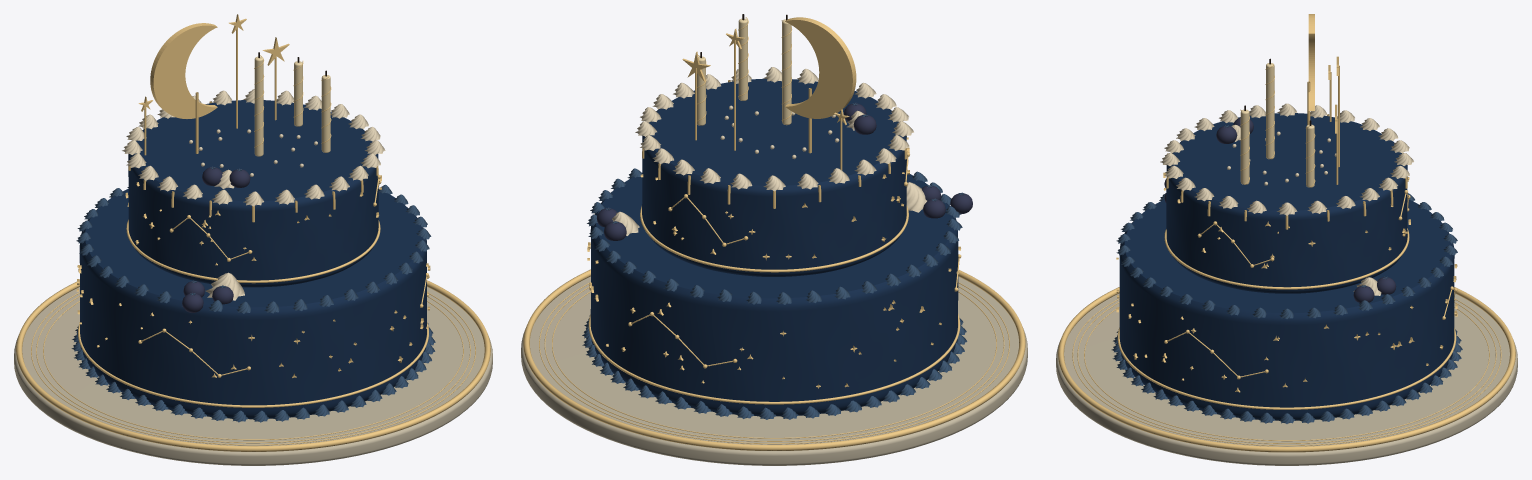
Rendered from star-cake.glb.
3 renders of one model, left to right at view 1: azimuth 30°, elevation 25°; view 2: azimuth 150°, elevation 25°; view 3: azimuth 270°, elevation 25°, orthographic. The views are drawn at different scales.
Parts seen in each view (by area): view 1: Lower_tier, Porcelain_plate, Plate_gold_rim, Piped_cream_rosette, Piped_cream_rosette.090, Candle_0, Blueberry; view 2: Lower_tier, Porcelain_plate, Plate_gold_rim, Piped_cream_rosette, Piped_cream_rosette.090, Candle_0, Blueberry; view 3: Lower_tier, Porcelain_plate, Plate_gold_rim, Piped_cream_rosette, Piped_cream_rosette.090, Candle_0, Blueberry.
Part boxes in pixels (x1,y1,x2,y2): Lower_tier: (79,100,426,419); Porcelain_plate: (14,287,492,465); Plate_gold_rim: (16,14,490,451); Piped_cream_rosette: (71,166,435,422); Piped_cream_rosette.090: (122,89,385,300); Candle_0: (254,56,330,156); Blueberry: (182,167,250,312); Lower_tier: (590,78,958,416); Porcelain_plate: (521,276,1027,465); Plate_gold_rim: (523,17,1025,450); Piped_cream_rosette: (582,102,967,419); Piped_cream_rosette.090: (612,67,926,235); Candle_0: (697,18,791,125); Blueberry: (596,103,972,240); Lower_tier: (1119,113,1454,420); Porcelain_plate: (1056,293,1517,465); Plate_gold_rim: (1058,14,1515,452); Piped_cream_rosette: (1111,125,1462,423); Piped_cream_rosette.090: (1160,103,1413,295); Candle_0: (1240,63,1314,187); Blueberry: (1164,117,1396,302).
Bounding box in the file's own units: 2.76 × 2.46 × 2.76.
